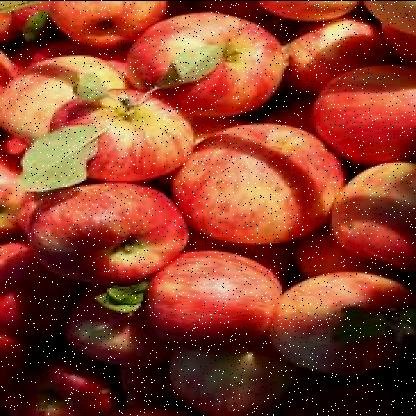apple: (182, 119, 325, 235), (268, 272, 414, 381), (30, 181, 180, 282), (127, 16, 282, 113), (52, 83, 196, 185), (142, 258, 280, 352), (147, 338, 293, 410), (4, 51, 116, 141), (314, 66, 410, 158), (320, 170, 414, 256)
